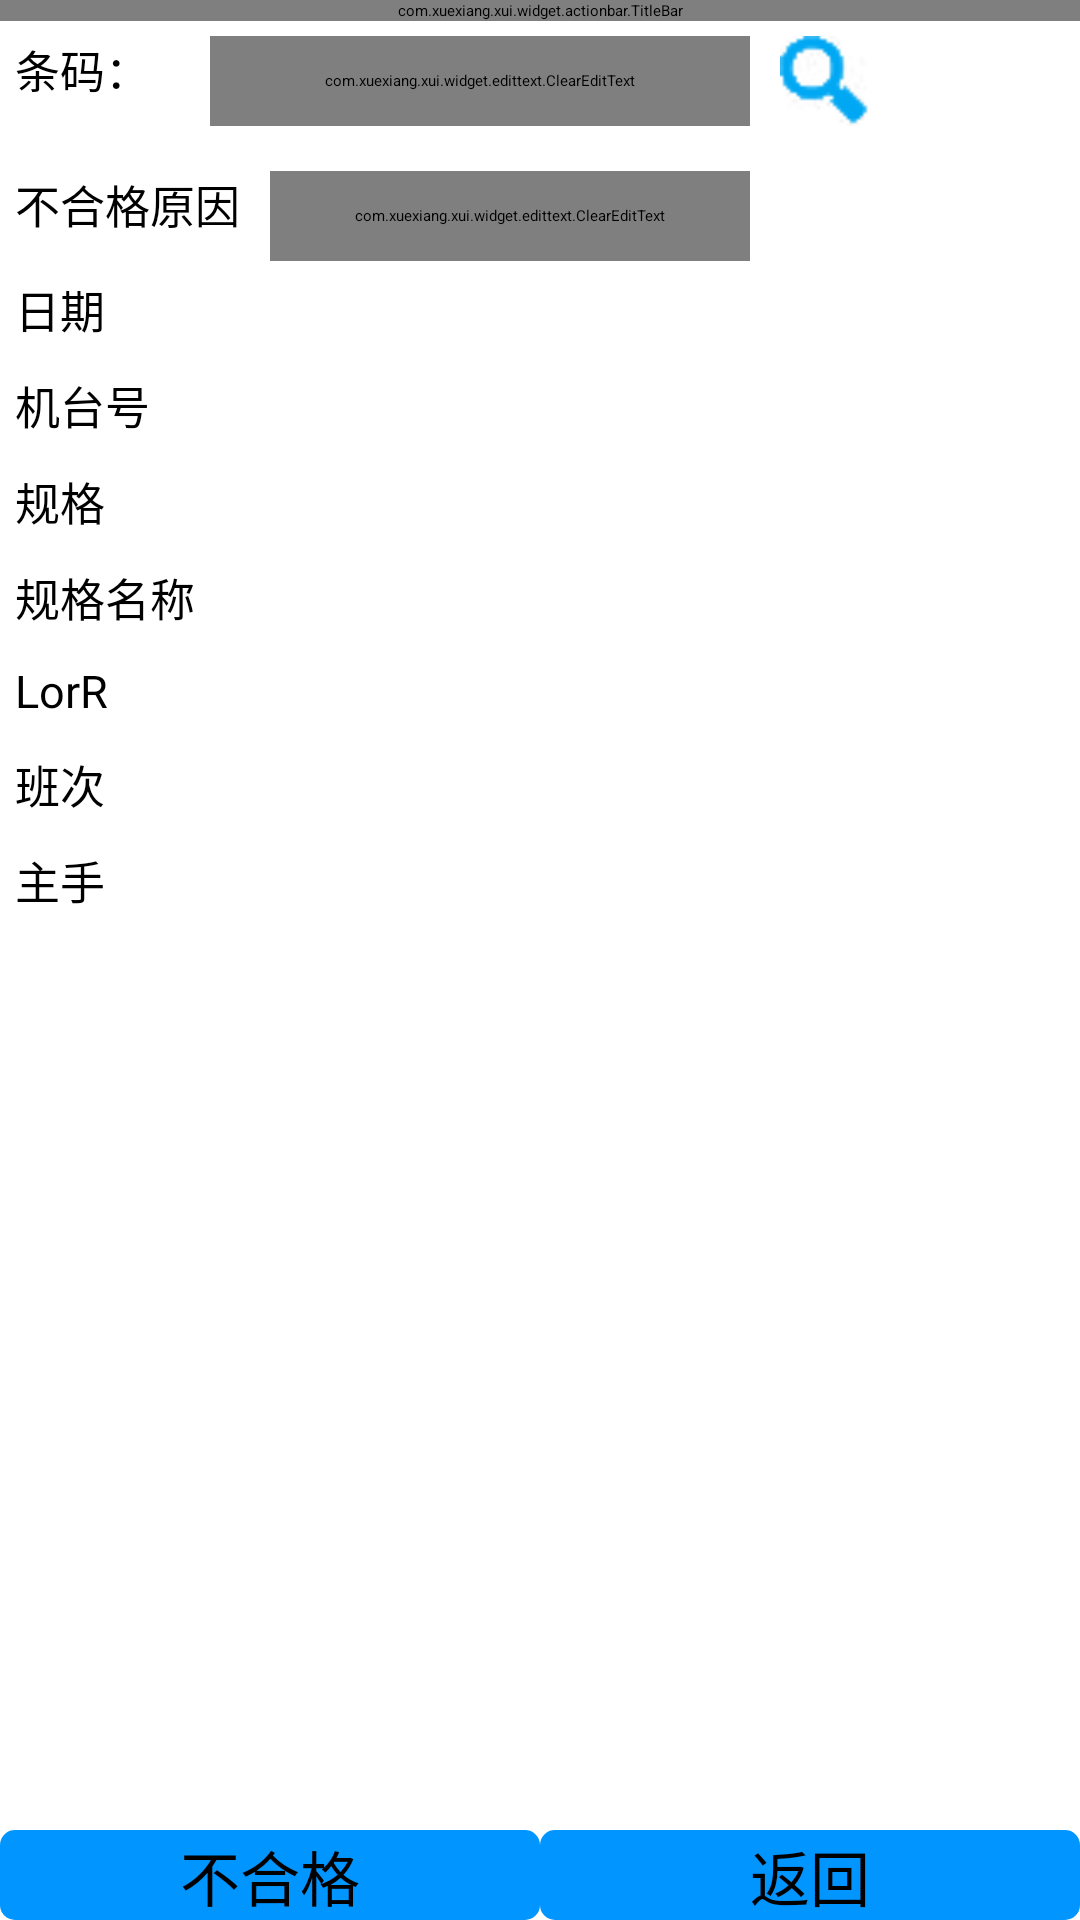

Where to tap for icons on this 1080 x 1920 app screen, as (x=x, y=y):
searth: (x=824, y=80)
